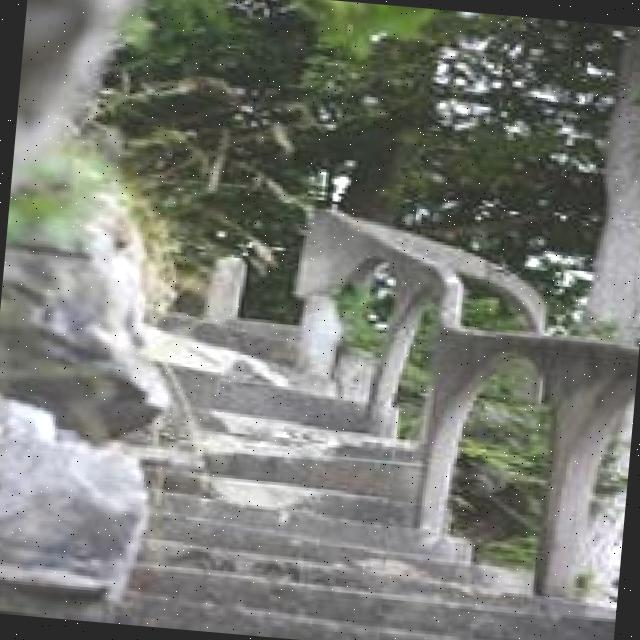stairs: (0, 271, 636, 640)
